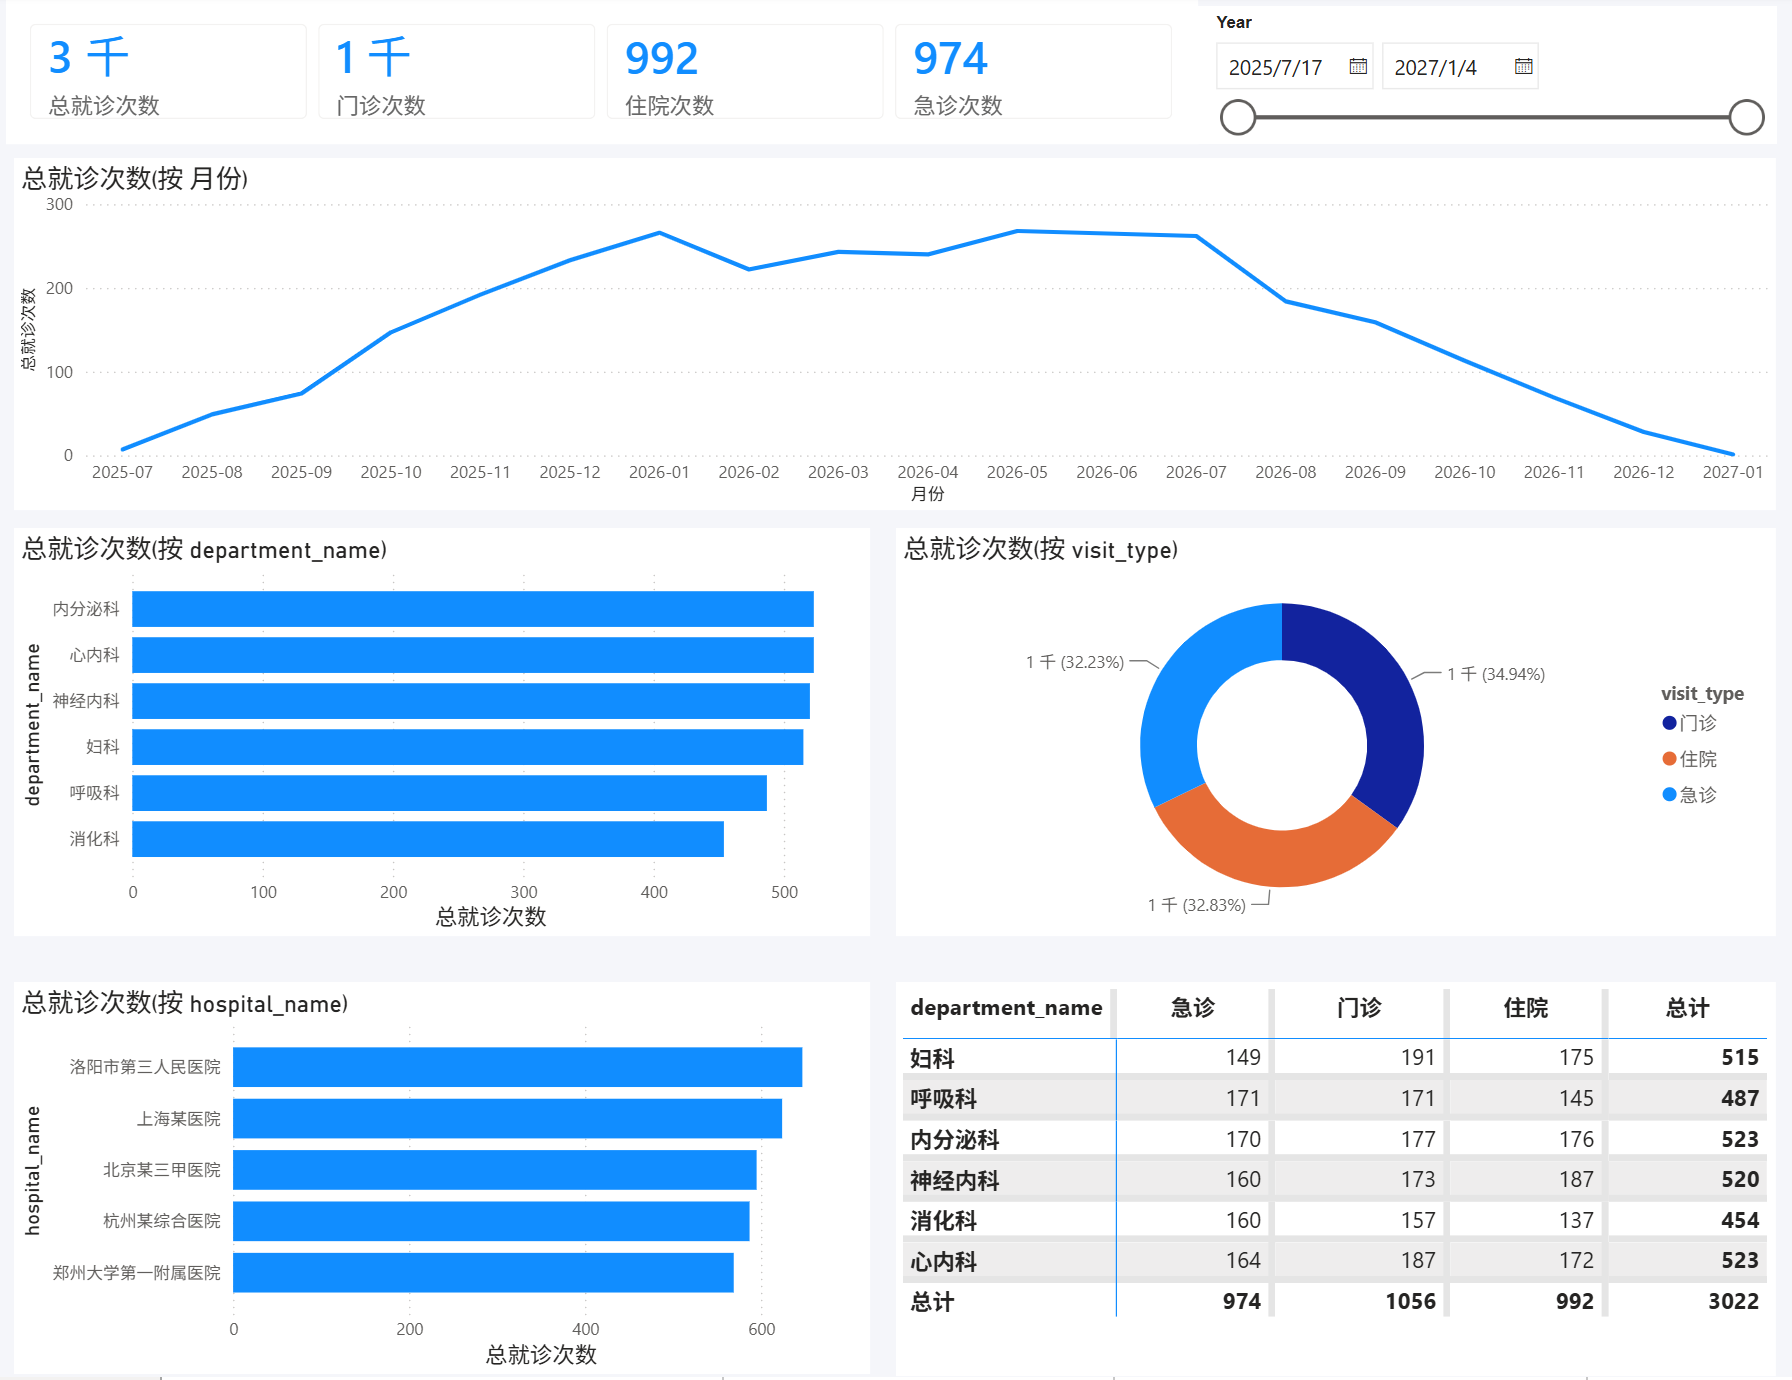

Layout of this report page (visuals, bound fields, positions):
{"tool":"powerbi","page":{"name":"运营分析（Operational Analytics）","canvas":[1280,1000],"ordinal":3},"visuals":[{"type":"cardVisual","fields":{"Data":["public visit_synthetic.总就诊次数","public visit_synthetic.门诊次数","public visit_synthetic.住院次数","public visit_synthetic.急诊次数"]},"box":[4.3,0,851.4,102.9],"z":0},{"type":"lineChart","fields":{"Category":["public visit_synthetic.月份"],"Y":["public visit_synthetic.总就诊次数"]},"box":[10,112.9,1258.6,251.4],"z":1000},{"type":"clusteredBarChart","fields":{"Category":["public visit_synthetic.department_name"],"Y":["public visit_synthetic.总就诊次数"]},"box":[10,377.1,611.4,291.4],"z":2000},{"type":"donutChart","fields":{"Y":["public visit_synthetic.总就诊次数"],"Category":["public visit_synthetic.visit_type"]},"box":[640,377.1,628.6,291.4],"z":3000},{"type":"clusteredBarChart","fields":{"Category":["public visit_synthetic.hospital_name"],"Y":["public visit_synthetic.总就诊次数"]},"box":[10,701.4,611.4,280],"z":4000},{"type":"slicer","fields":{"Values":["public visit_synthetic.visit_time"]},"box":[855.7,4.3,412.9,98.6],"z":5000},{"type":"pivotTable","fields":{"Rows":["public visit_synthetic.department_name"],"Columns":["public visit_synthetic.visit_type"],"Values":["public visit_synthetic.总就诊次数"]},"box":[640,701.4,628.6,281.4],"z":6000}]}

Visuals, with their boxes in screenshot pixels (x1, y1, x2, y2), scaled from the page's 1280x1000 canvas onto the 1792x1380 screenshot:
cardVisual - public visit_synthetic.总就诊次数 x public visit_synthetic.门诊次数: bbox=(6, 0, 1198, 142)
lineChart - public visit_synthetic.月份 x public visit_synthetic.总就诊次数: bbox=(14, 156, 1776, 503)
clusteredBarChart - public visit_synthetic.department_name x public visit_synthetic.总就诊次数: bbox=(14, 520, 870, 923)
donutChart - public visit_synthetic.总就诊次数 x public visit_synthetic.visit_type: bbox=(896, 520, 1776, 923)
clusteredBarChart - public visit_synthetic.hospital_name x public visit_synthetic.总就诊次数: bbox=(14, 968, 870, 1354)
slicer - public visit_synthetic.visit_time: bbox=(1198, 6, 1776, 142)
pivotTable - public visit_synthetic.department_name x public visit_synthetic.visit_type: bbox=(896, 968, 1776, 1356)
